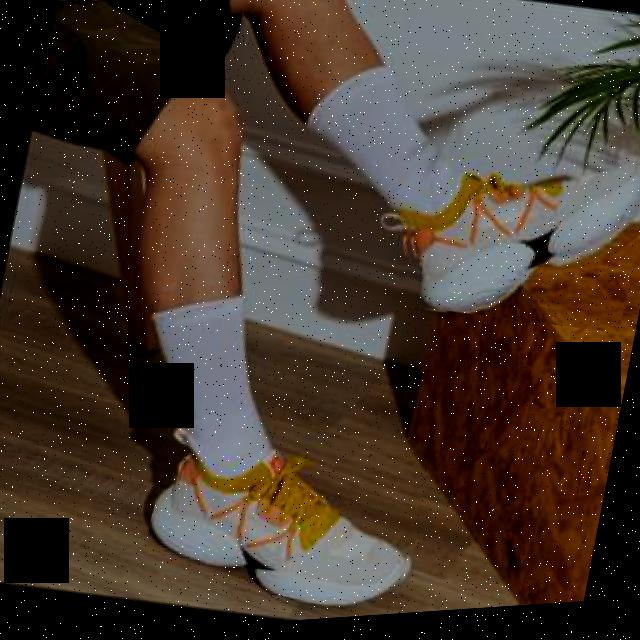shoe: (140, 408, 432, 631), (387, 122, 640, 354)
